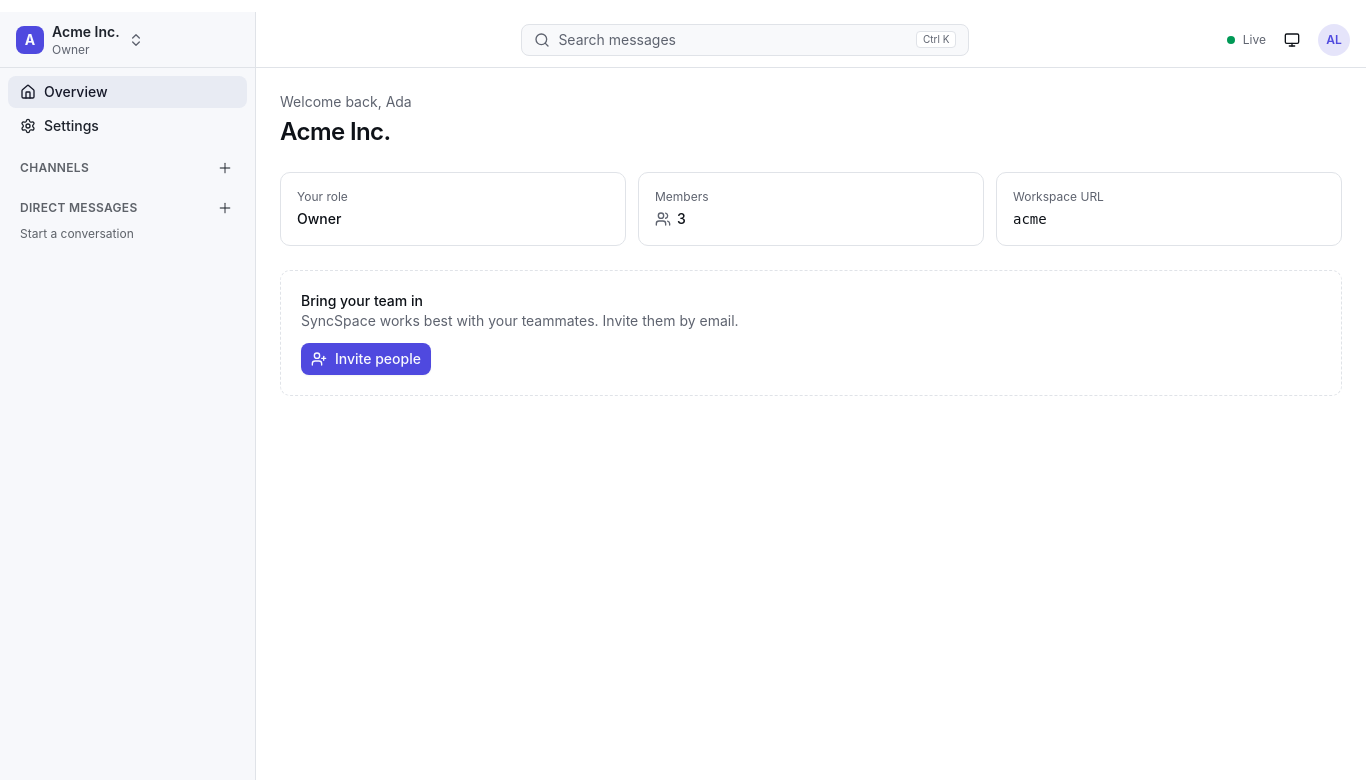
Scenario: workspace switcher and access › lists the user’s workspaces with roles and switches by URL
This screenshot has width=1366, height=780.
Check: the heading "Acme Inc." is shown, box [280,117,390,146]
Click the button with aria-label "Switch workspace". click: (80, 40)
box: [8,16,152,64]
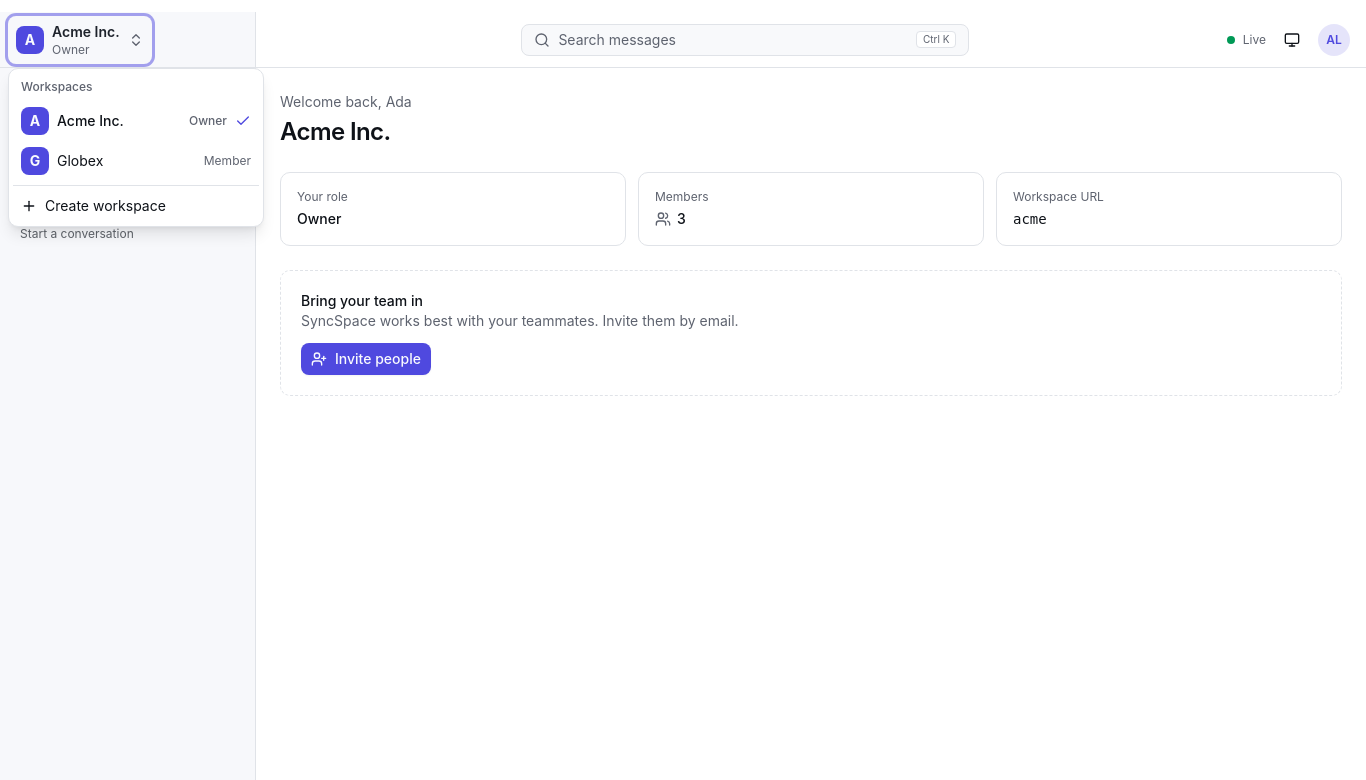
Click the link "G Globex Member". click: (80, 160)
box: [13,140,259,180]
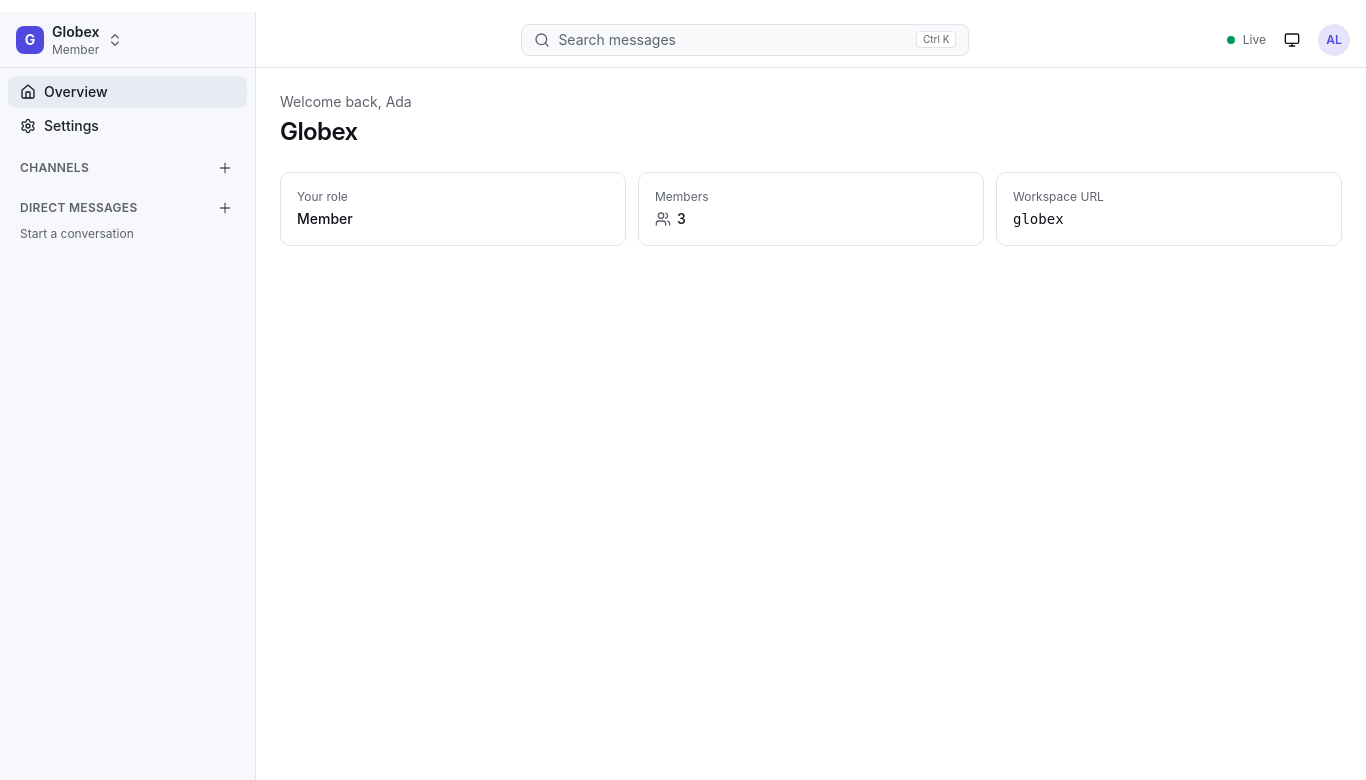
Check: the heading "Globex" is shown, box [280,117,358,146]
